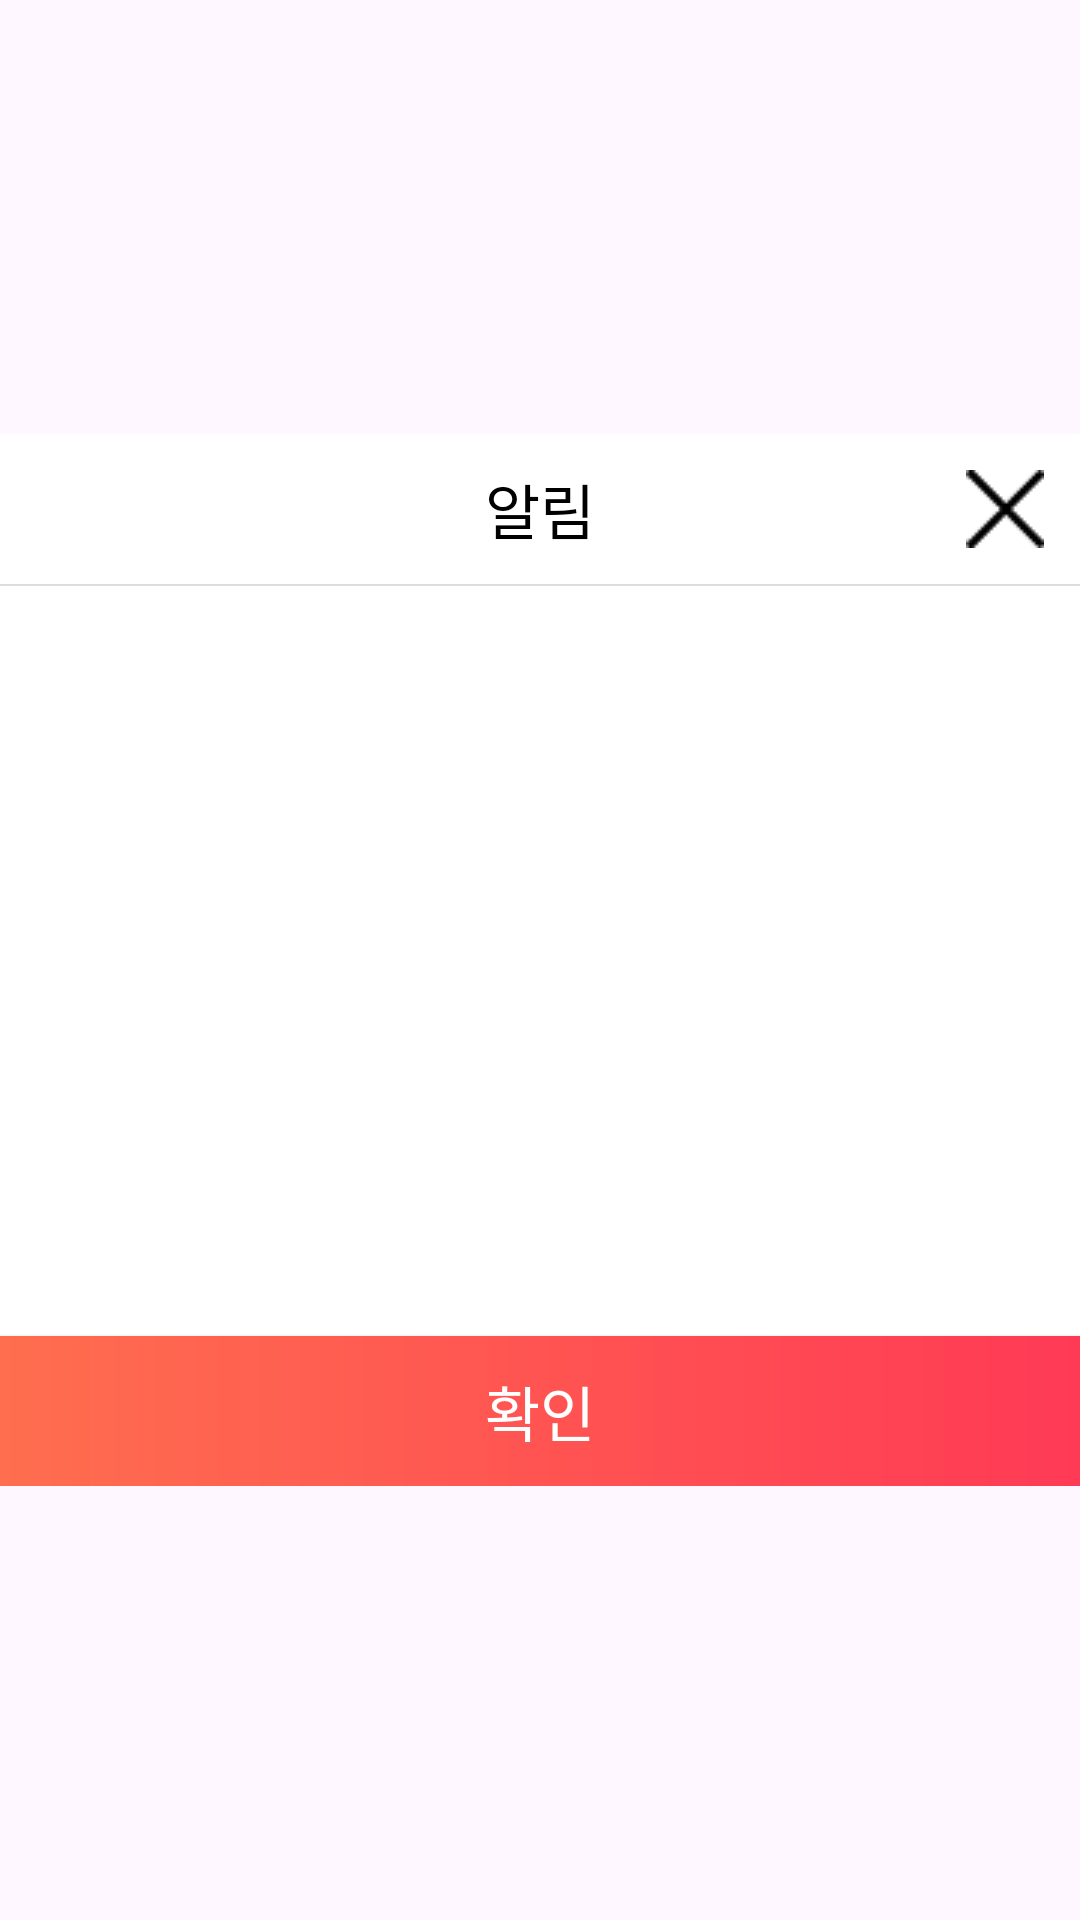

Named icons in this screenshot (1080*1920) and their bounding boxes, Rect(x1, y1, x2, y2):
close guide: Rect(966, 470, 1044, 548)
